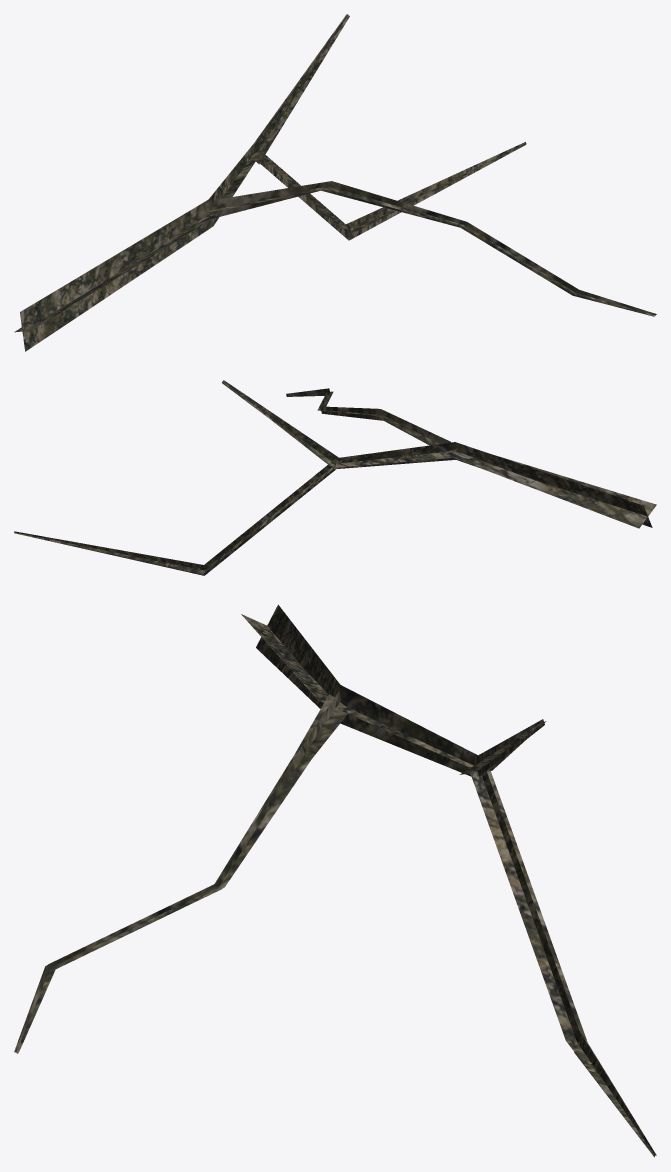
Rendered from INST_EKH_BRANCHA.fbx.
3 views of the same model, one above another, from view 1: azimuth 30°, elevation 25°; view 2: azimuth 150°, elevation 25°; view 3: azimuth 270°, elevation 25° (orthographic). The views are drawn at different scales.
Visible parts, largest first — view 1: INST_EKH_BRANCHA; view 2: INST_EKH_BRANCHA; view 3: INST_EKH_BRANCHA.
Part boxes in pixels (x1,y1,x2,y2): INST_EKH_BRANCHA: [14, 14, 656, 351]; INST_EKH_BRANCHA: [14, 380, 656, 575]; INST_EKH_BRANCHA: [14, 604, 656, 1157].
Bounding box in the file's own units: 28387 × 9978 × 17875.
1 material, 1 textured.
